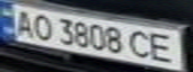0: (87, 21, 106, 52)
3: (51, 16, 75, 46)
8: (106, 25, 127, 56), (69, 19, 90, 49)
A: (6, 7, 39, 38)
C: (127, 28, 157, 61)
E: (145, 29, 184, 64)
O: (27, 11, 57, 42)
